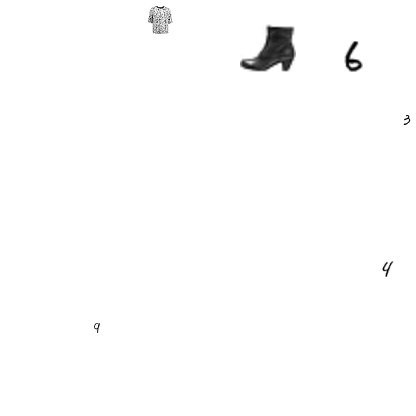3: (400, 113, 414, 127)
4: (376, 257, 398, 279)
6: (331, 37, 373, 79)
9: (90, 320, 104, 334)
Ankle_boot: (240, 19, 296, 75)
Shirt: (146, 6, 174, 34)
